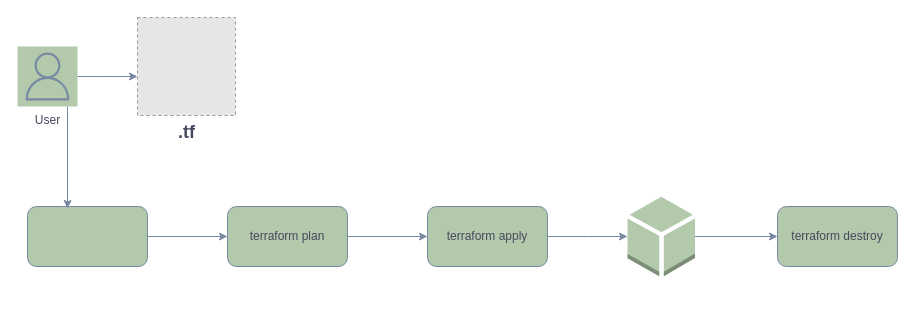
This 915x321 diagram has some shape labels left out. Grey dashed boxes stand in for pictures. The box of each missing label's shape, as (x1, y1, x2, y2) in pixels:
resources: (626, 196, 695, 276)
terraform init: (26, 206, 148, 266)
